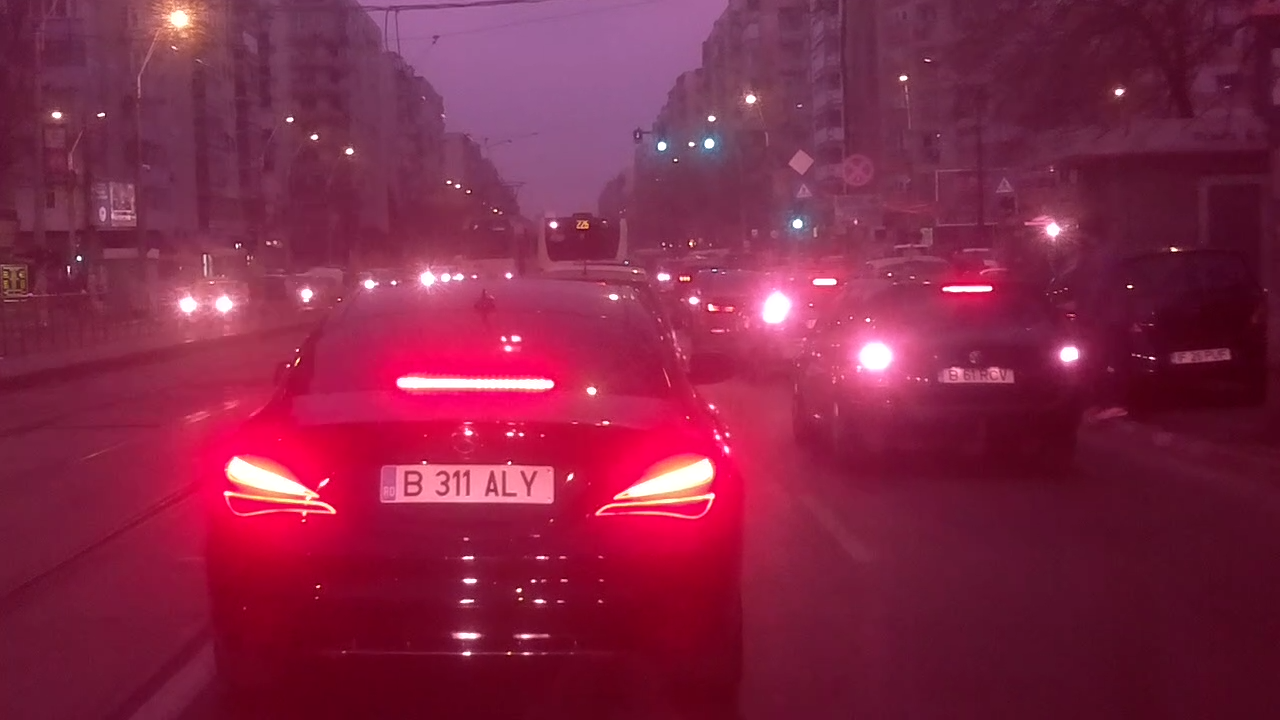license-plate: (375, 460, 560, 507), (937, 366, 1014, 384), (1172, 347, 1232, 363)
